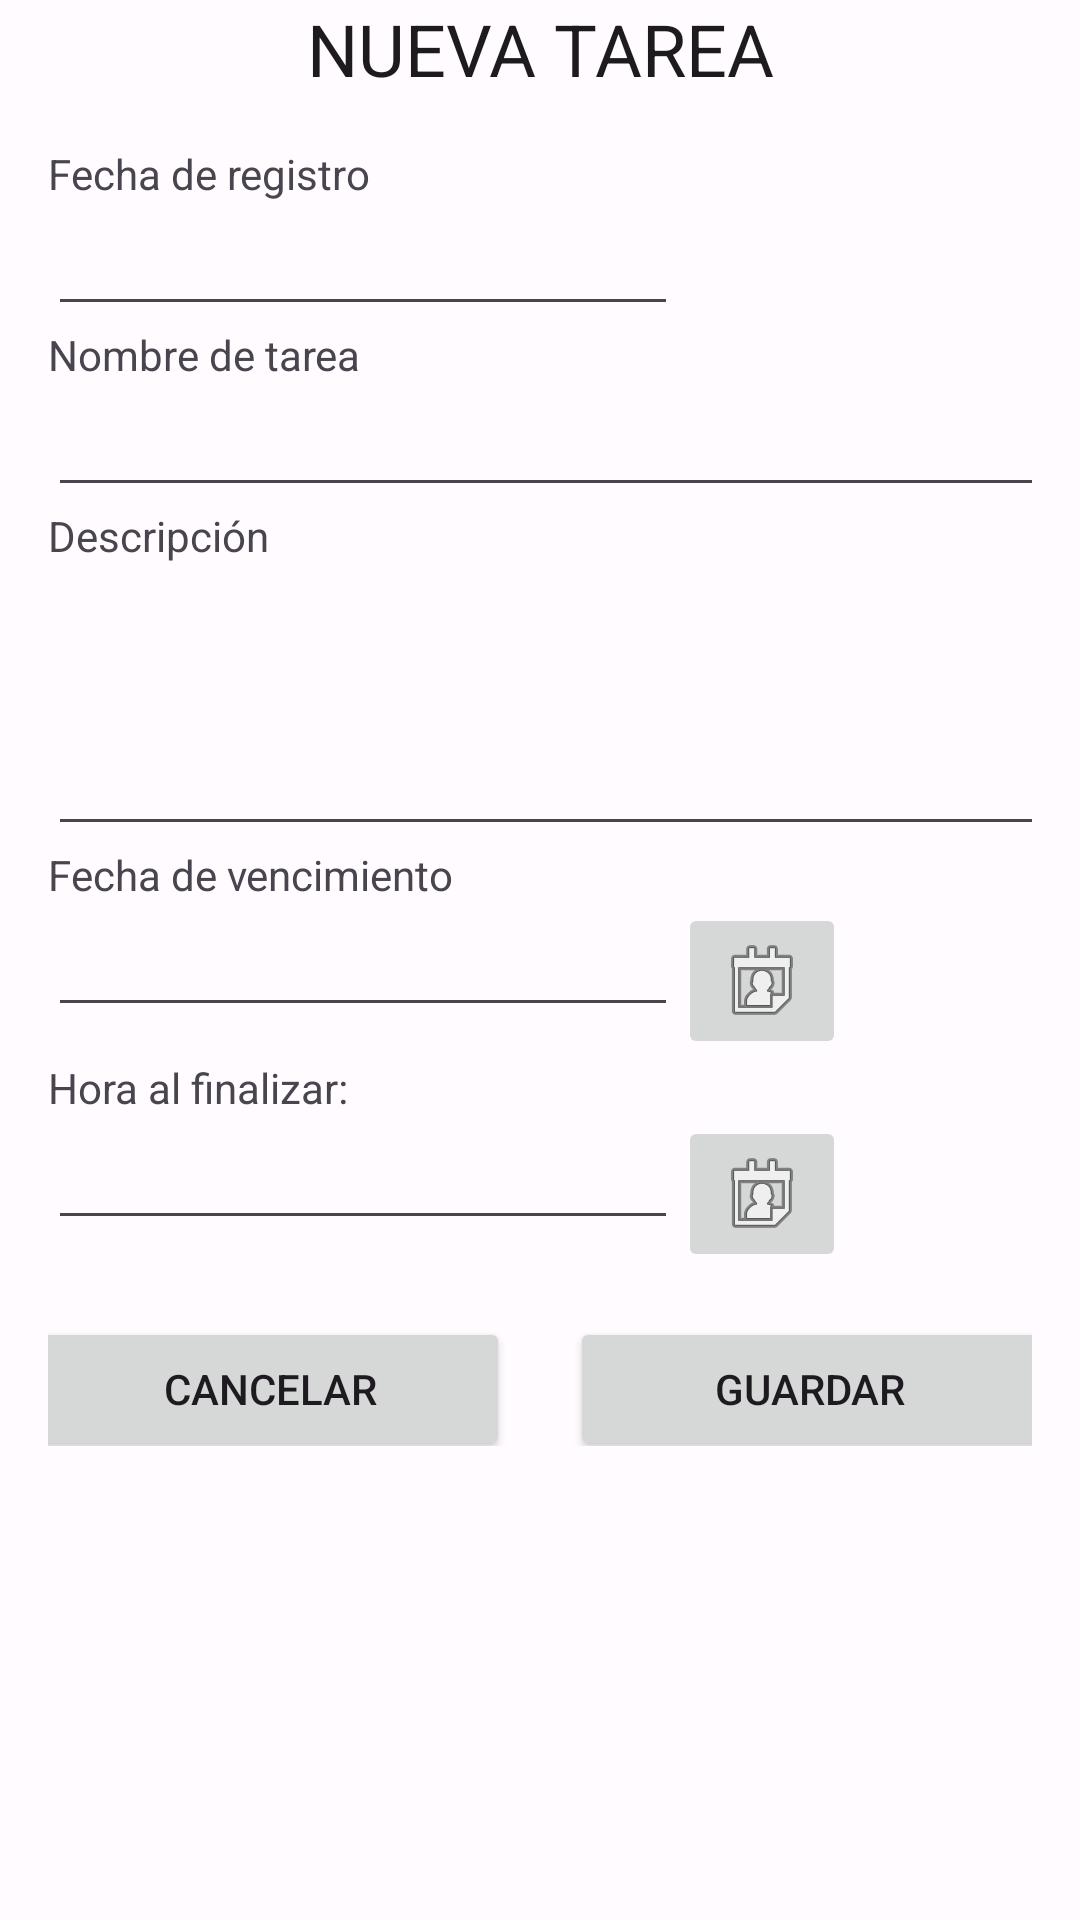

Icons on this 1080px x 1920px Android screen, each with the point to tap as (x,y):
calendar: (762,981), (762,1194)
